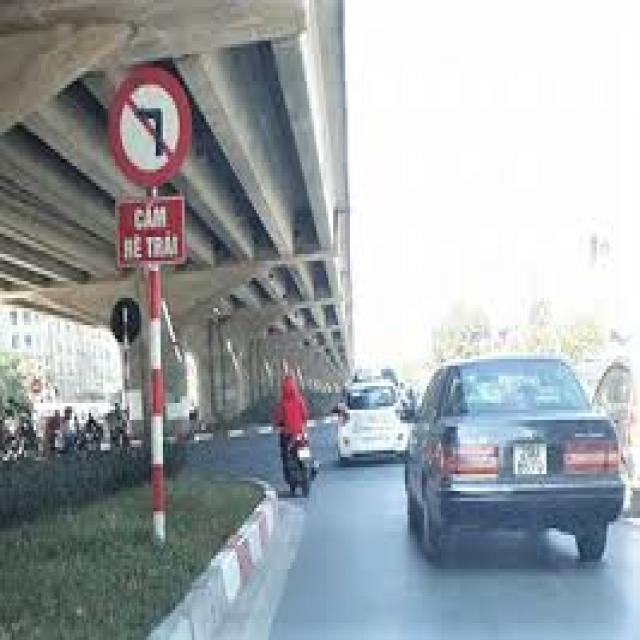Bien bao cam re trai: (101, 58, 209, 184)
